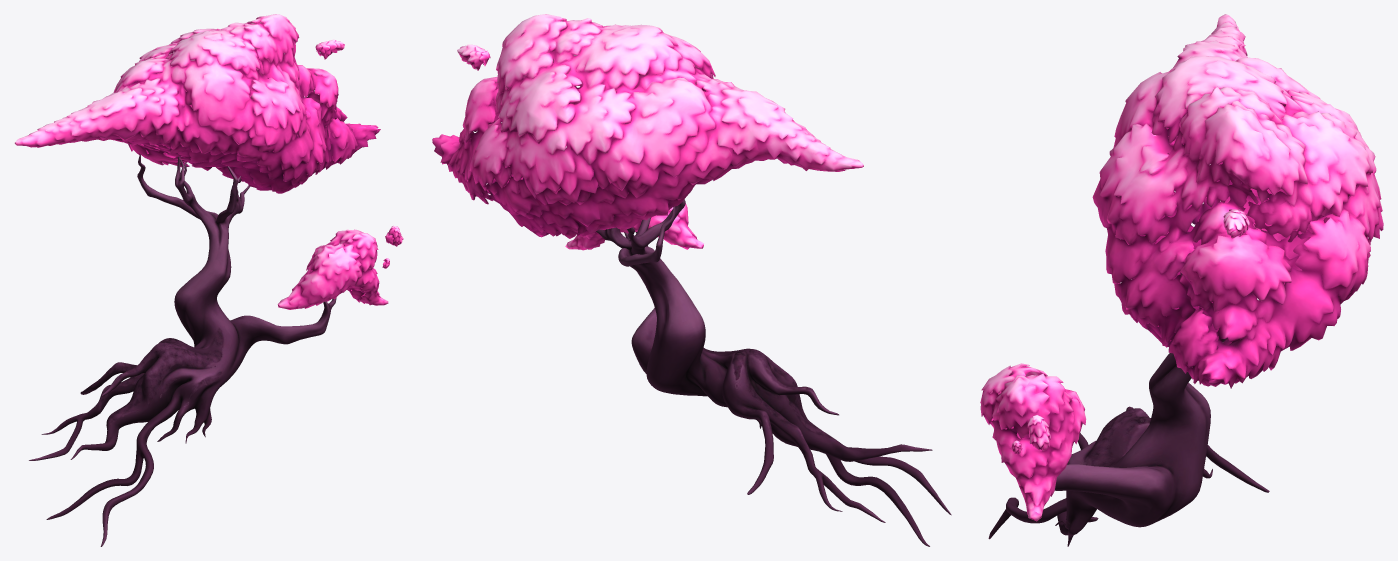
The model's file is sky_tree_01b_chaos.glb.
The picture shows the model from 3 angles, left to right: view 1: azimuth 30°, elevation 25°; view 2: azimuth 150°, elevation 25°; view 3: azimuth 270°, elevation 25°; orthographic projection. The views are drawn at different scales.
Parts seen in each view (by area): view 1: tree_01b; view 2: tree_01b; view 3: tree_01b.
Boxes of the visible parts, x1,y1,x2,y2 form: tree_01b: [14, 14, 403, 546]; tree_01b: [432, 14, 951, 546]; tree_01b: [980, 14, 1383, 546].
Bounding box in the file's own units: 38.75 × 40.81 × 24.35.
2 materials, 2 textured.
